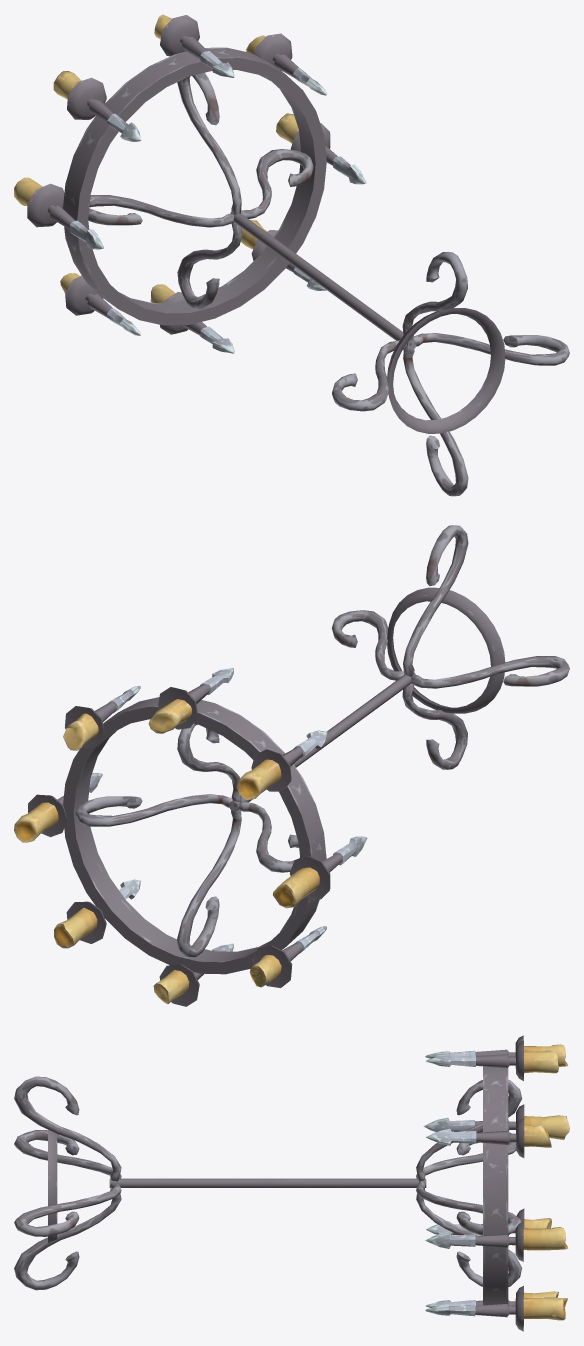
File: fp-candlestick-stand-lod0.glb
3 views of the same model, one above another, from view 1: azimuth 30°, elevation 25°; view 2: azimuth 150°, elevation 25°; view 3: azimuth 270°, elevation 25° (orthographic). The views are drawn at different scales.
Visible parts, largest first — view 1: WeaponMesh_fp-candlestick-stand_CandleStick_Stand; view 2: WeaponMesh_fp-candlestick-stand_CandleStick_Stand; view 3: WeaponMesh_fp-candlestick-stand_CandleStick_Stand.
Boxes of the visible parts, x1,y1,x2,y2 form: WeaponMesh_fp-candlestick-stand_CandleStick_Stand: (14, 14, 569, 496); WeaponMesh_fp-candlestick-stand_CandleStick_Stand: (14, 525, 569, 1006); WeaponMesh_fp-candlestick-stand_CandleStick_Stand: (14, 1035, 569, 1331).
Bounding box in the file's own units: 0.6974 × 0.6965 × 1.25.
Materials: 2 (2 with a texture image).
